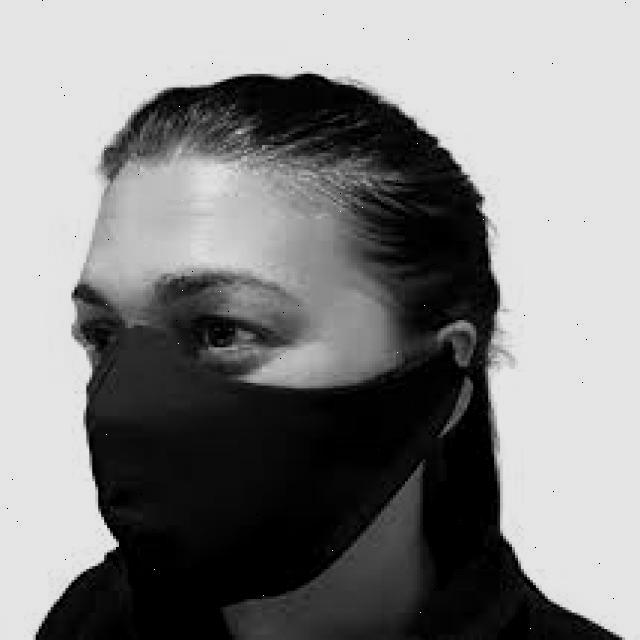fake: (32, 321, 482, 623)
real: (74, 165, 418, 618)
